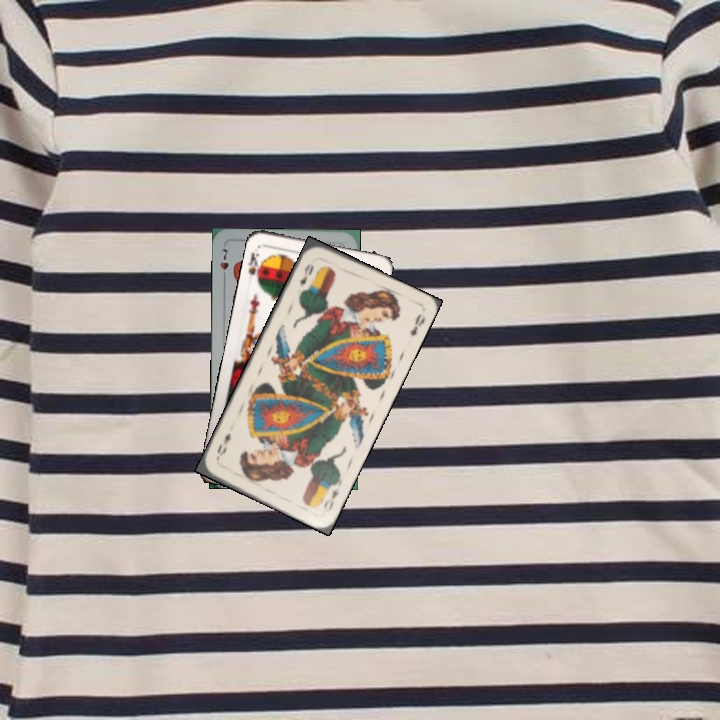EO: (317, 477, 344, 514), (295, 260, 316, 290)
H7: (216, 245, 231, 283)
SK: (244, 248, 266, 283)
